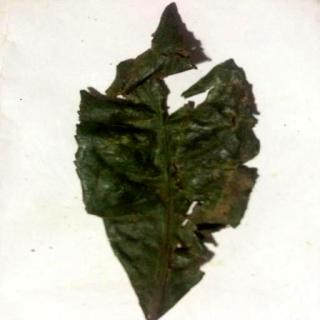Red Leaf Spot: (77, 3, 260, 320)
